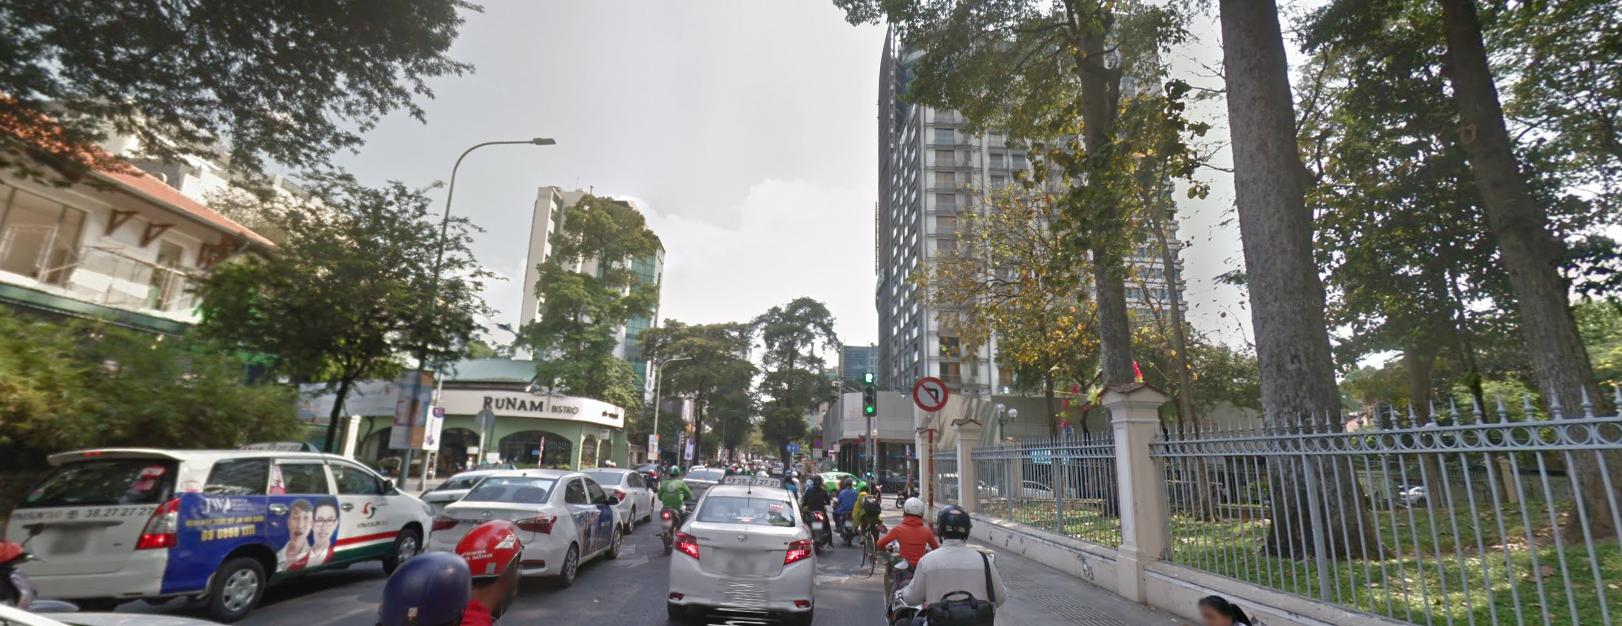Cam dung va do: (811, 435, 823, 446)
Cam re: (908, 372, 951, 414)
